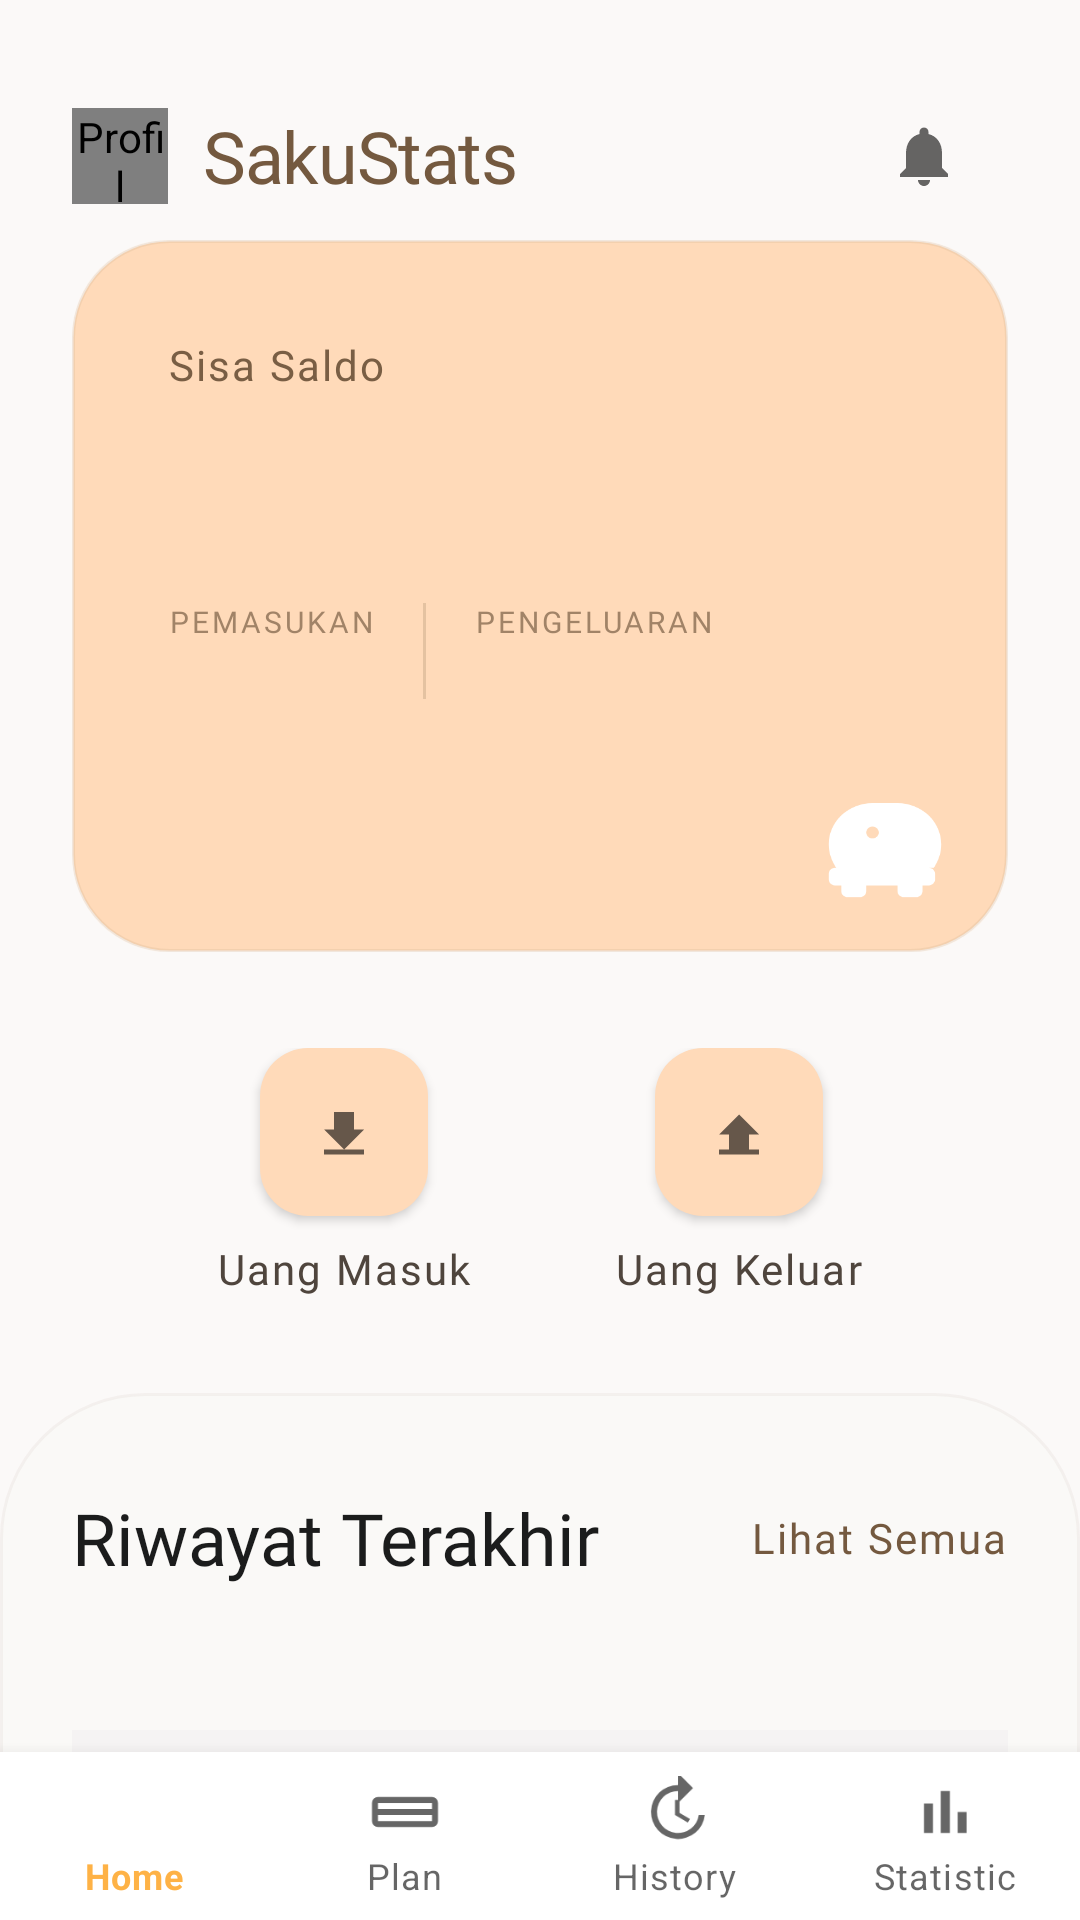

Named icons in this screenshot (1080x1920) and their centers, (x=x, y=y):
expense: (x=739, y=1134)
income: (x=344, y=1133)
Notifikasi: (x=924, y=156)
